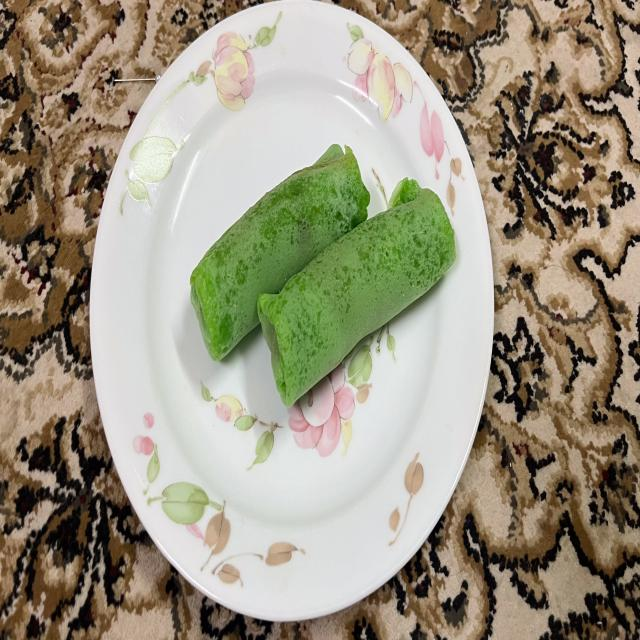Kuih-Ketayap: (258, 178, 456, 407), (190, 144, 370, 360)
